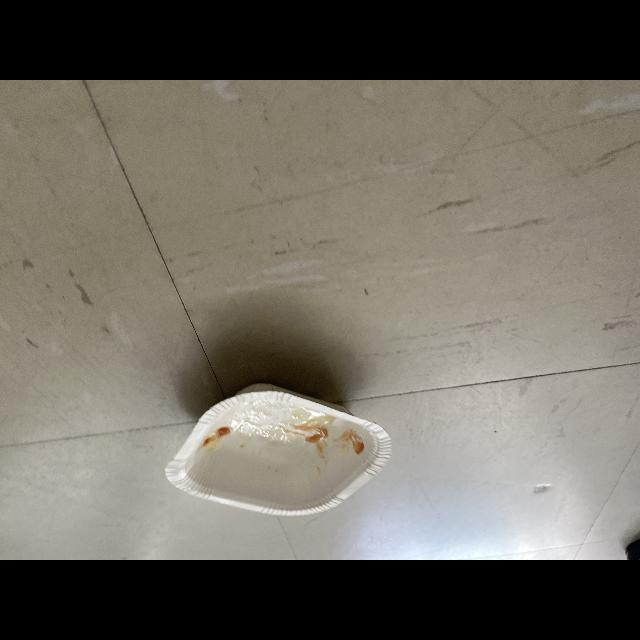cardboard_bowl: (151, 378, 401, 524)
